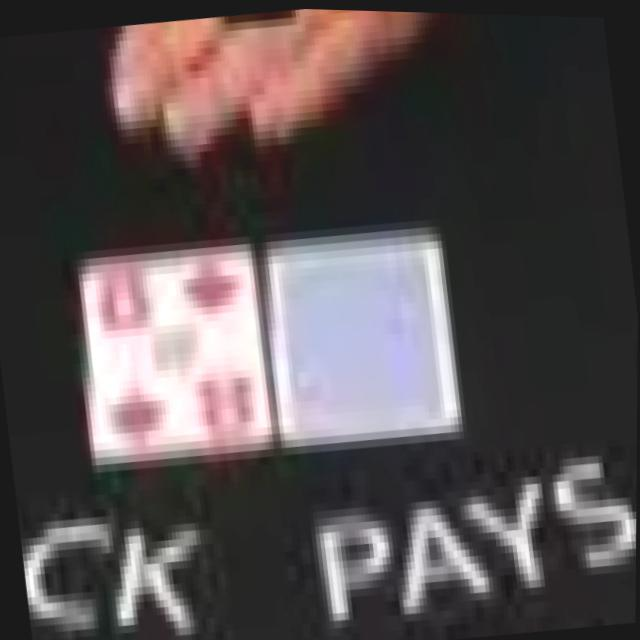Card-8: (81, 240, 272, 469)
